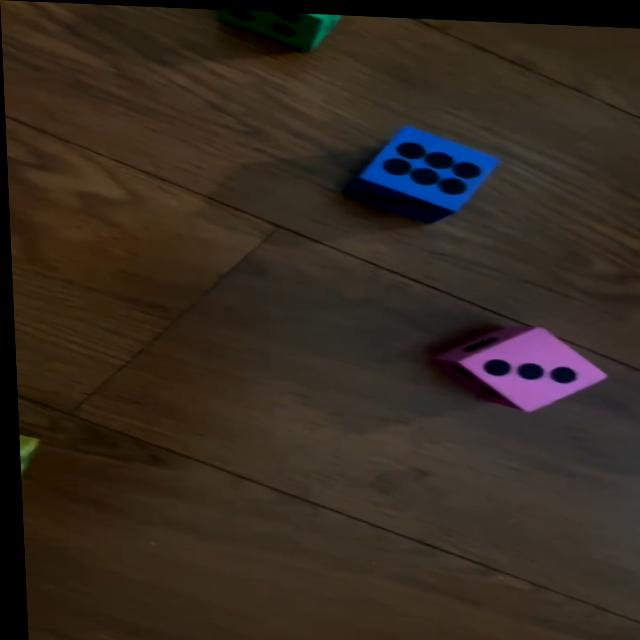blue_block: (356, 120, 499, 222)
